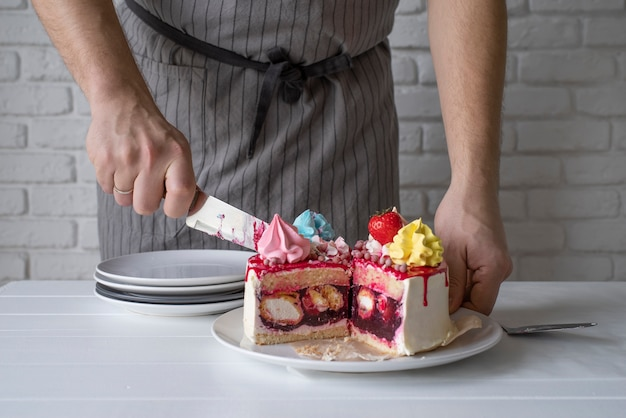knife: (184, 188, 272, 252)
